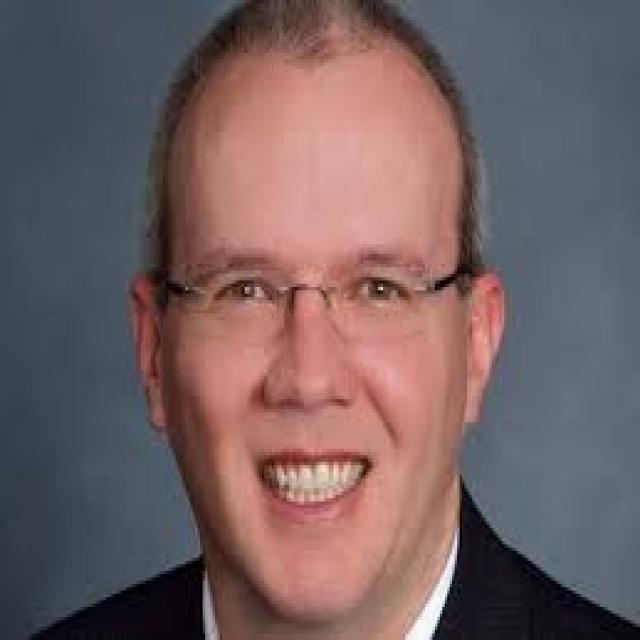normal_face: (134, 21, 509, 618)
